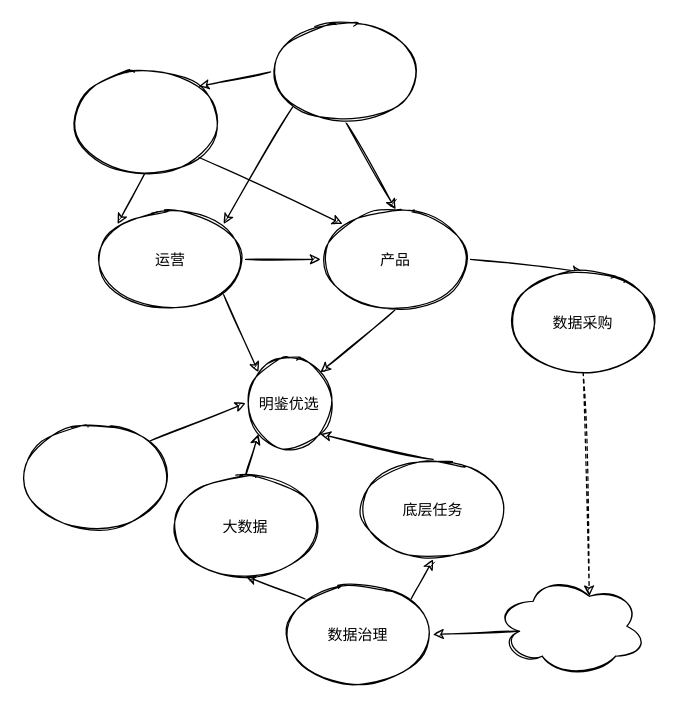
The diagram is 679 pixels wide and 705 high, and some of its shapes have lost their labels. Here are the shapes that lost their labels. From the top down, the box of each, then its label:
(269, 21, 421, 122): 用户
(69, 71, 221, 172): 顾问
(19, 426, 171, 527): 算法
(494, 575, 646, 676): 供应商
